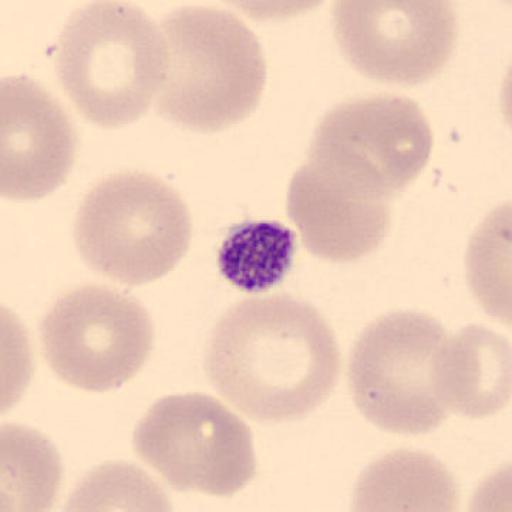Platelet: (213, 216, 300, 295)
RBC: (200, 291, 342, 426), (145, 3, 267, 135), (50, 0, 172, 130), (346, 306, 464, 439), (71, 167, 195, 287), (305, 91, 435, 202), (129, 389, 259, 497), (36, 282, 156, 396), (284, 146, 394, 264), (328, 0, 460, 87), (2, 72, 78, 204), (130, 390, 223, 494), (434, 320, 512, 420), (346, 445, 462, 512), (54, 458, 175, 512), (463, 198, 512, 324), (0, 419, 64, 512), (2, 304, 36, 418), (185, 0, 338, 23), (465, 461, 512, 512)
